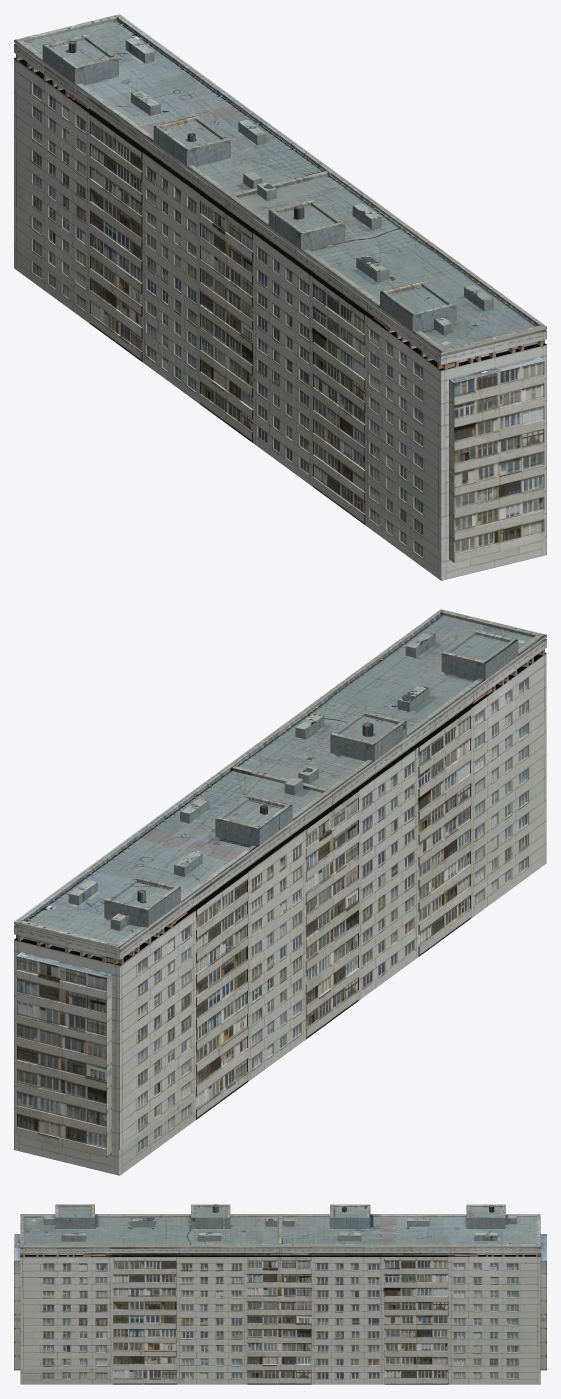
The model's file is panelkakrslow.obj.
The picture shows the model from 3 angles, top to bottom: view 1: azimuth 30°, elevation 25°; view 2: azimuth 150°, elevation 25°; view 3: azimuth 270°, elevation 25°; orthographic projection. The views are drawn at different scales.
Parts seen in each view (by area): view 1: panelkaKRS; view 2: panelkaKRS; view 3: panelkaKRS.
Boxes of the visible parts, bbox=[...] form: panelkaKRS: bbox=[14, 14, 546, 580]; panelkaKRS: bbox=[14, 609, 546, 1175]; panelkaKRS: bbox=[14, 1204, 546, 1384].
Size of the model in its own units: 1.64 by 3.68 by 11.6.
